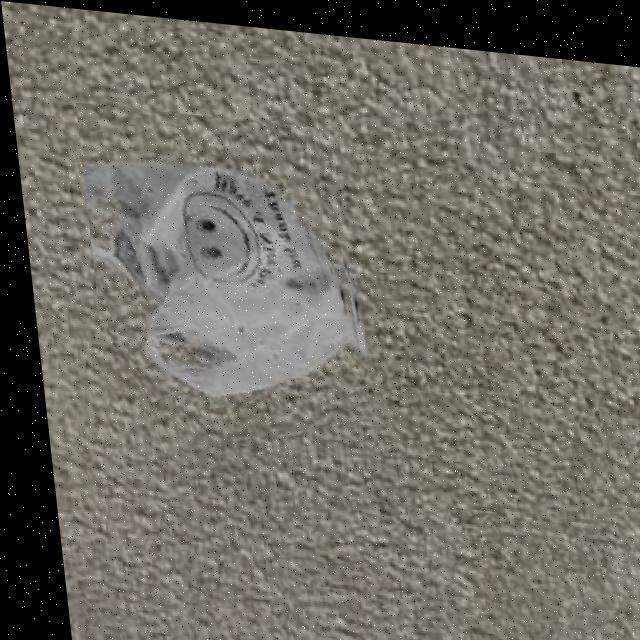plasticcover: (72, 100, 371, 456)
